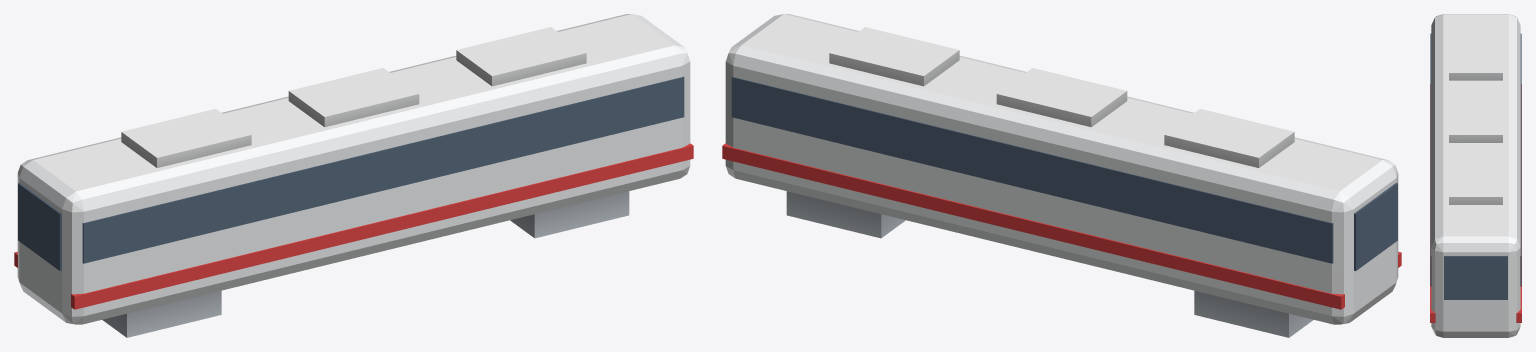
File: metro_car.glb
3 views of the same model, side by side, from view 1: azimuth 30°, elevation 25°; view 2: azimuth 150°, elevation 25°; view 3: azimuth 270°, elevation 25° (orthographic). The views are drawn at different scales.
Parts seen in each view (by area): view 1: metro_car; view 2: metro_car; view 3: metro_car.
Boxes of the visible parts, x1,y1,x2,y2 form: metro_car: (14, 14, 693, 337); metro_car: (722, 14, 1401, 337); metro_car: (1430, 14, 1521, 337).
Bounding box in the file's own units: 17.3 × 4.37 × 2.88.
